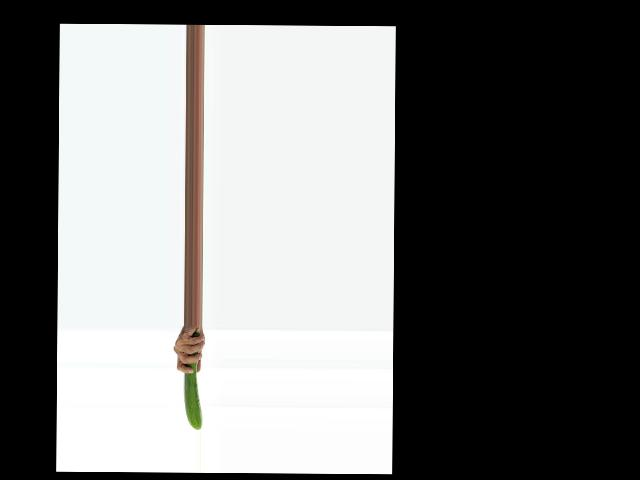cucumber: (183, 328, 203, 430)
